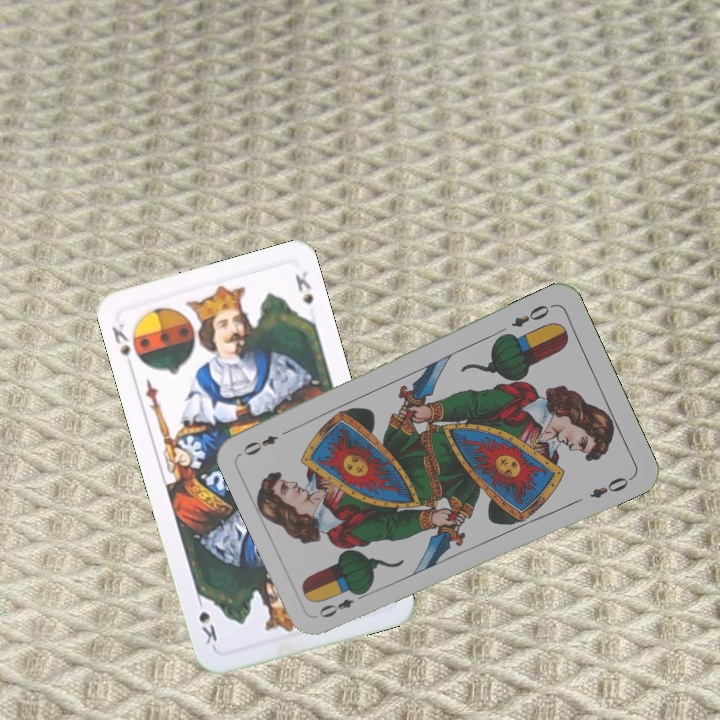EO: (315, 587, 370, 621), (507, 300, 552, 330)
SK: (107, 319, 145, 367)
